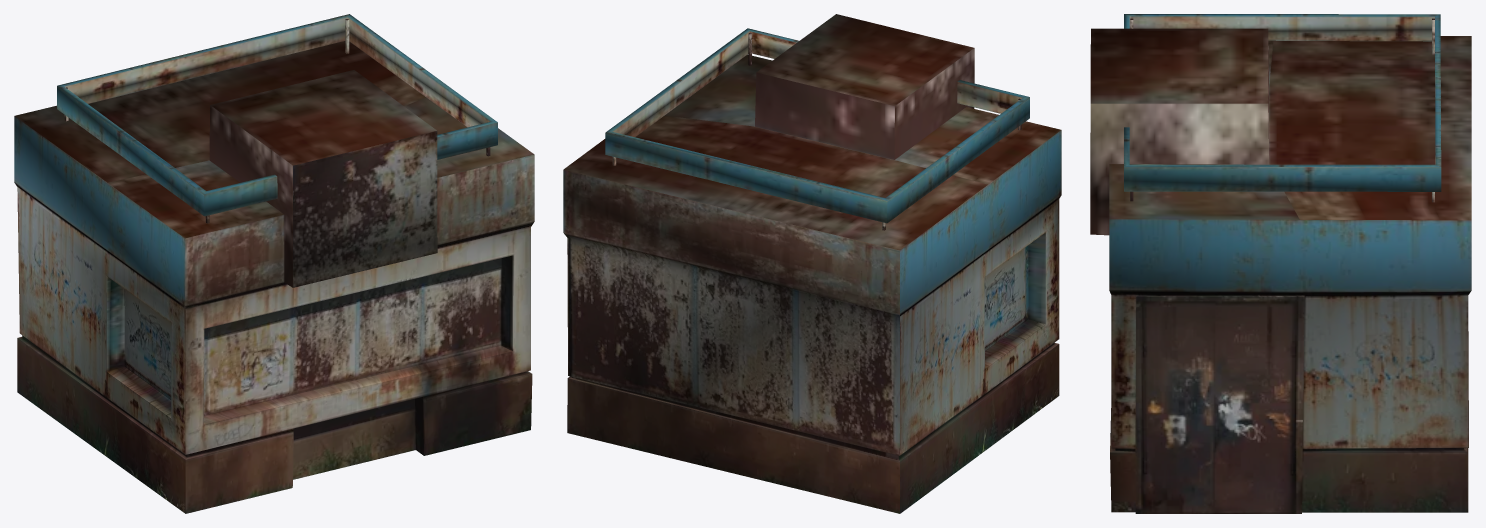
The model's file is kiosk-rusty.lod0.glb.
The picture shows the model from 3 angles, left to right: view 1: azimuth 30°, elevation 25°; view 2: azimuth 150°, elevation 25°; view 3: azimuth 270°, elevation 25°; orthographic projection. The views are drawn at different scales.
Visible parts, largest first — view 1: RustyKiosk01_RustyKiosk01_0; view 2: RustyKiosk01_RustyKiosk01_0; view 3: RustyKiosk01_RustyKiosk01_0.
Boxes of the visible parts, x1=… form: RustyKiosk01_RustyKiosk01_0: x1=14, y1=14, x2=534, y2=513; RustyKiosk01_RustyKiosk01_0: x1=563, y1=14, x2=1061, y2=513; RustyKiosk01_RustyKiosk01_0: x1=1090, y1=14, x2=1471, y2=513.
Bounding box in the file's own units: 3.6 × 3.26 × 3.17.
1 material, 1 textured.
